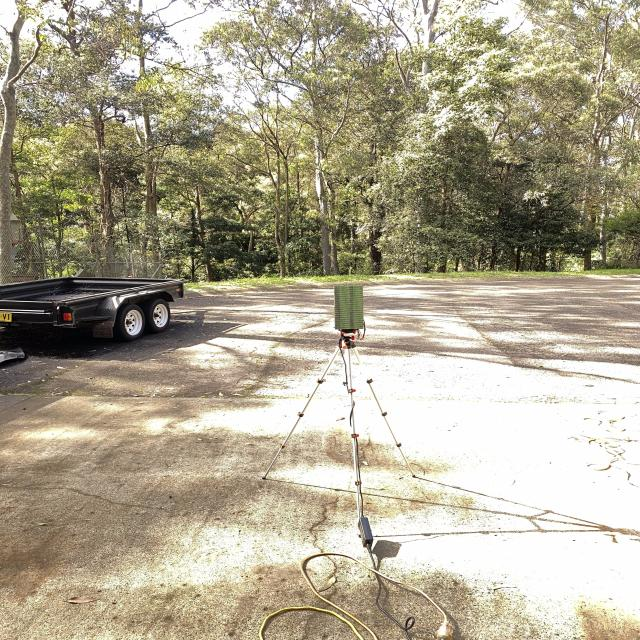matrix: (330, 284, 368, 330)
